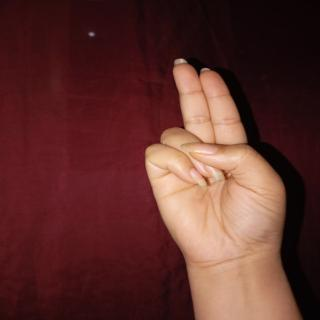TA: (134, 55, 310, 274)
